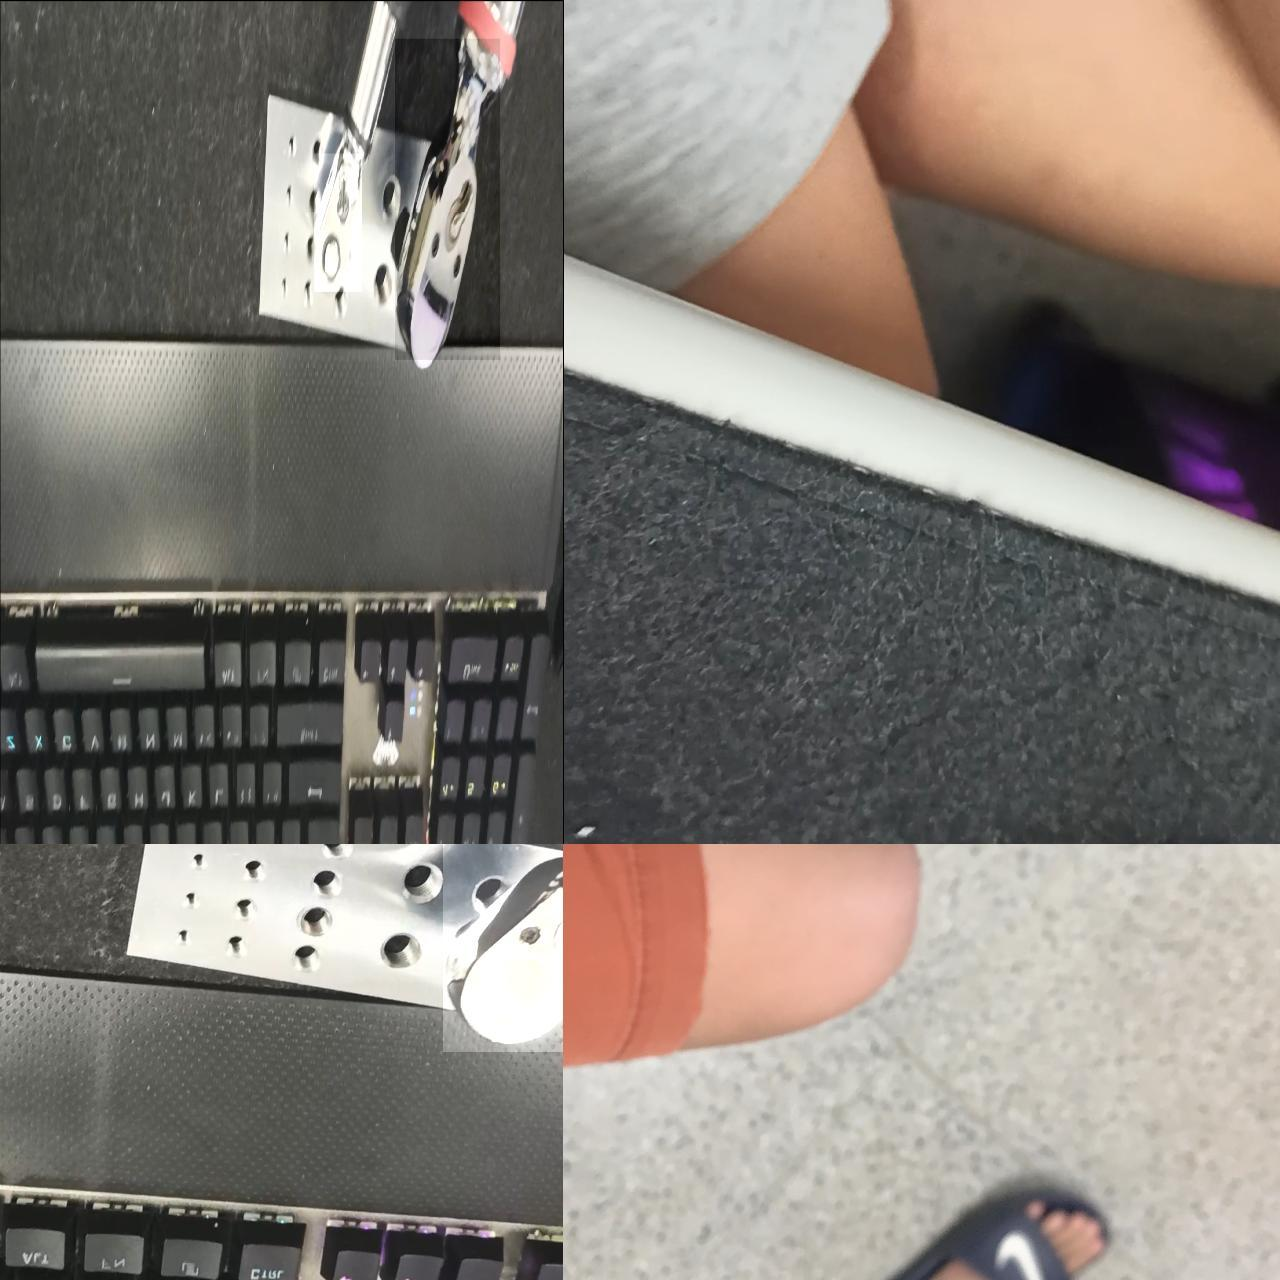Tool: (395, 38, 499, 359), (442, 844, 563, 1051), (313, 152, 361, 291)
